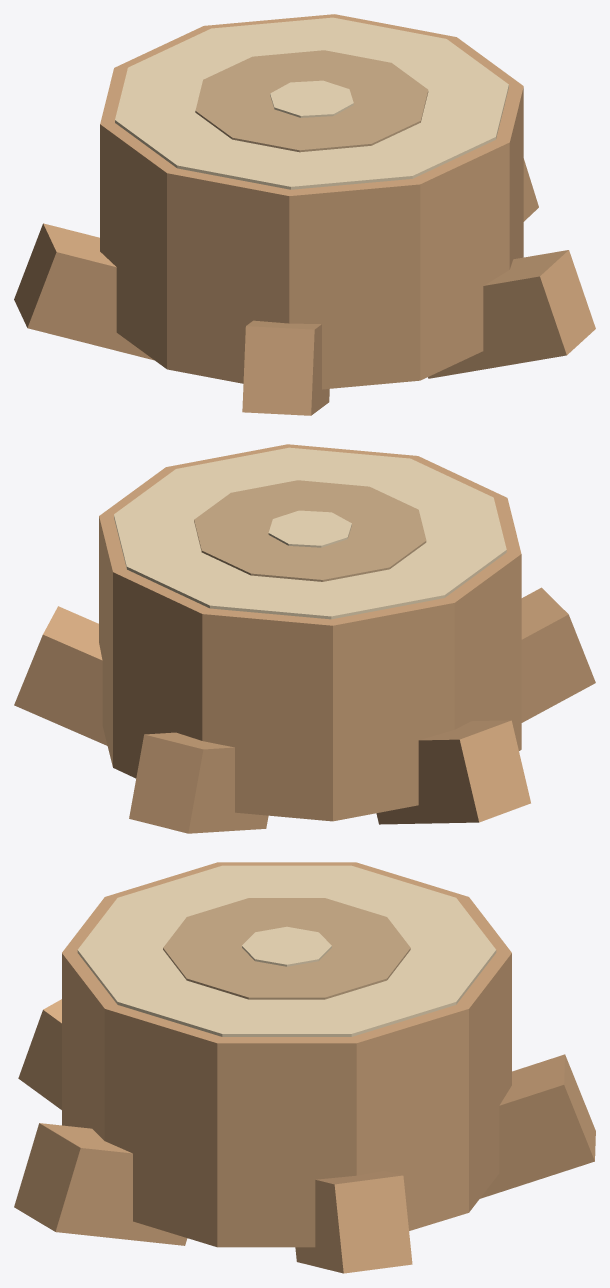
Rendered from Stump_Sun.fbx.
3 views of the same model, one above another, from view 1: azimuth 30°, elevation 25°; view 2: azimuth 150°, elevation 25°; view 3: azimuth 270°, elevation 25° (orthographic). The views are drawn at different scales.
Visible parts, largest first — view 1: Stump_Sun_Mesh; view 2: Stump_Sun_Mesh; view 3: Stump_Sun_Mesh.
Boxes of the visible parts, left/top/right/bottom form: Stump_Sun_Mesh: left=14, top=14, right=595, bottom=415; Stump_Sun_Mesh: left=14, top=444, right=595, bottom=833; Stump_Sun_Mesh: left=14, top=862, right=595, bottom=1273.
Size of the model in its own units: 2.71 by 1.23 by 2.59.
